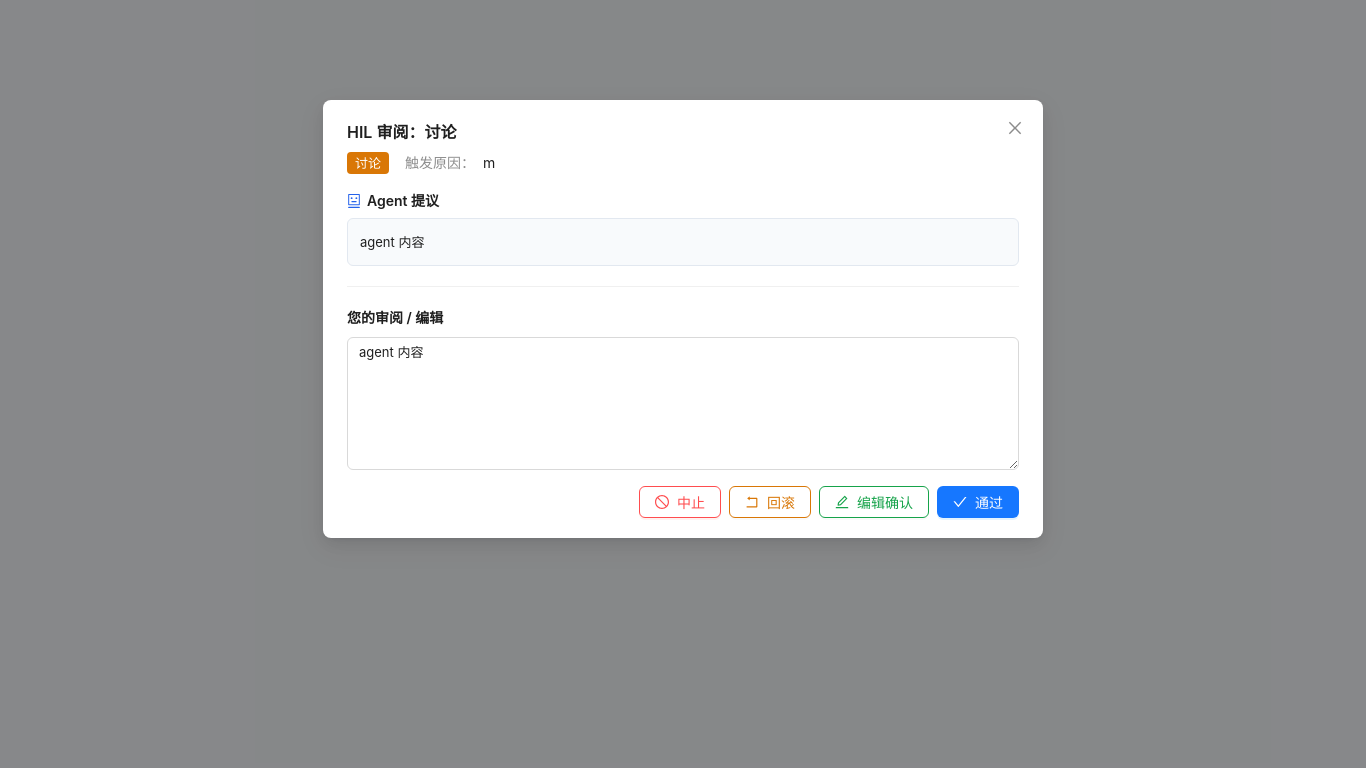
it: components/HILDialog › dirty 时显示提示文本（输入与 agentProposal 不同）
This screenshot has width=1366, height=768.
Expected: the text "检测到修改" is not shown
In the text box with placeholder "可在此编辑修改 Agent 的提议内容": [683, 403] box left=347, top=337, right=1019, bottom=470, type "x"
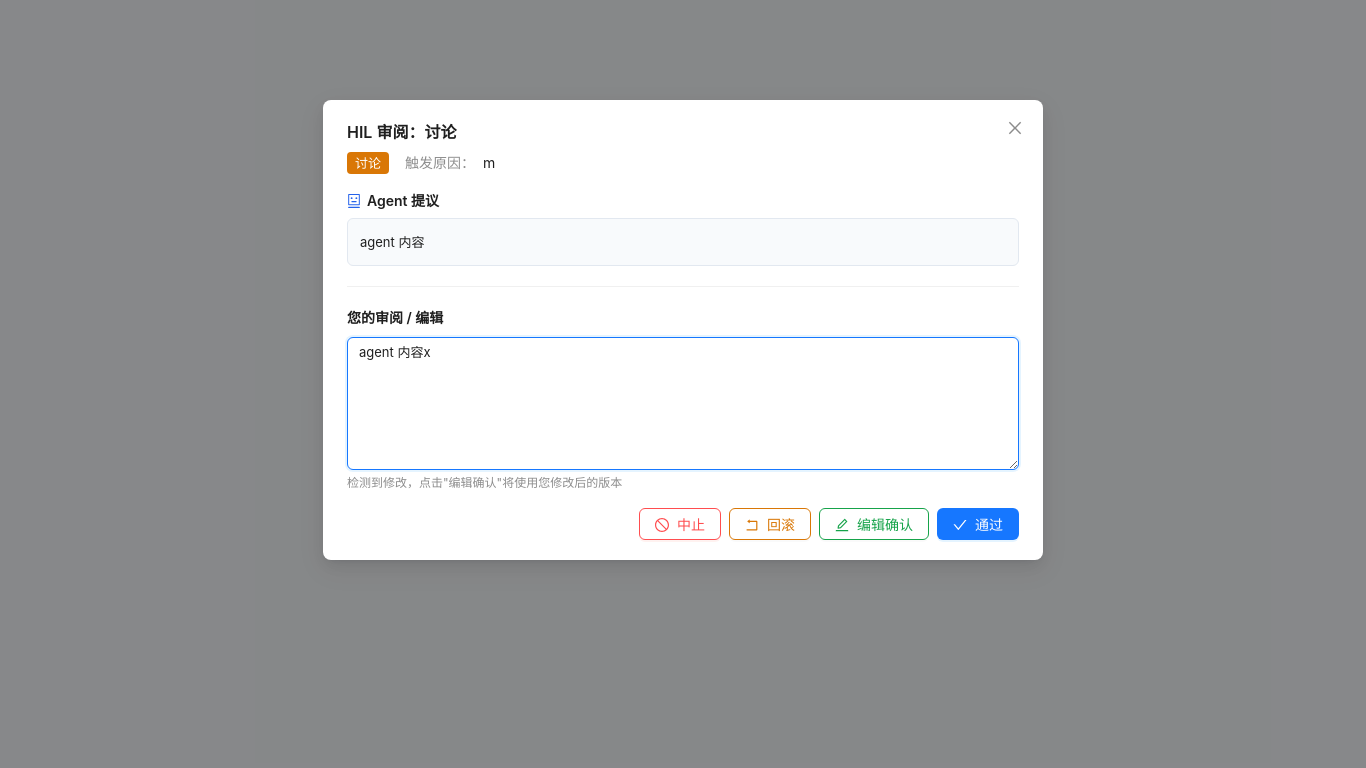
Now the text "检测到修改，点击\"编辑确认\"将使用您修改后的版本" is shown, box left=347, top=475, right=622, bottom=490
